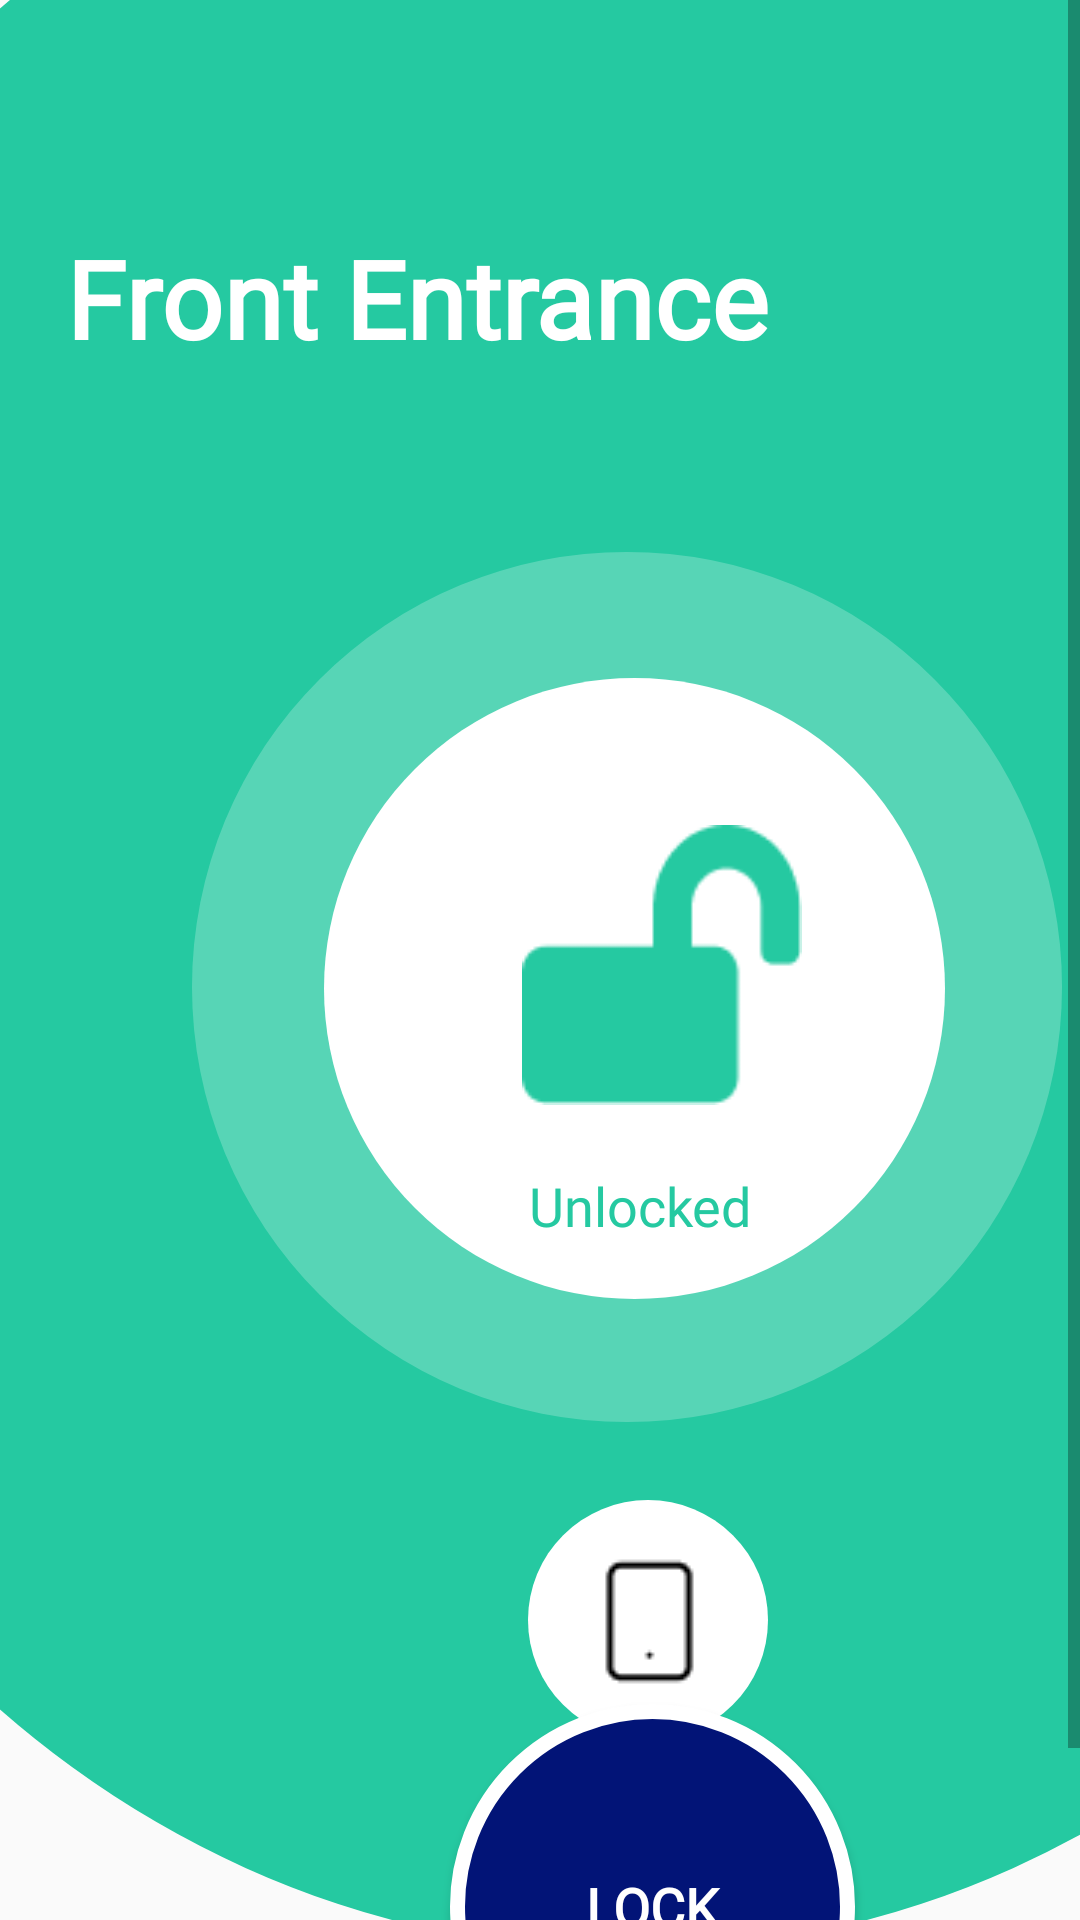

Locate icon controls on the screen. Image size 1080*1920, boxes as (x1, y1, x2, y2).
smartphone: (605, 1560, 694, 1683)
